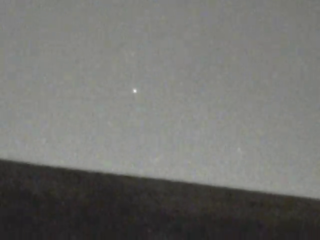Target: (134, 90, 137, 93)
